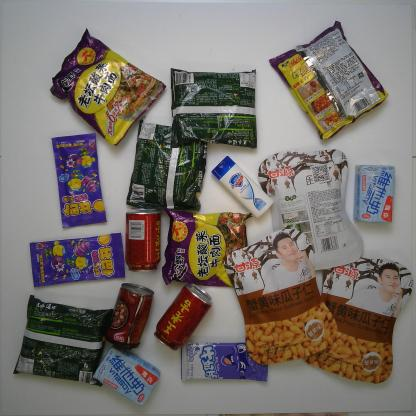Candy: (50, 132, 108, 230), (29, 232, 126, 288), (180, 340, 270, 384)
Canned Food: (103, 282, 155, 352)
Dried Fruit: (223, 228, 338, 366), (302, 255, 416, 385), (257, 147, 365, 271)
Drink: (153, 282, 214, 352), (124, 207, 163, 274)
Instant Noodles: (267, 18, 390, 143), (49, 27, 168, 148), (10, 293, 114, 389), (125, 118, 209, 213), (168, 66, 260, 150), (161, 206, 253, 289)
Milk: (92, 344, 162, 408), (352, 164, 397, 225)
Personal Hygiene: (210, 153, 275, 219)
